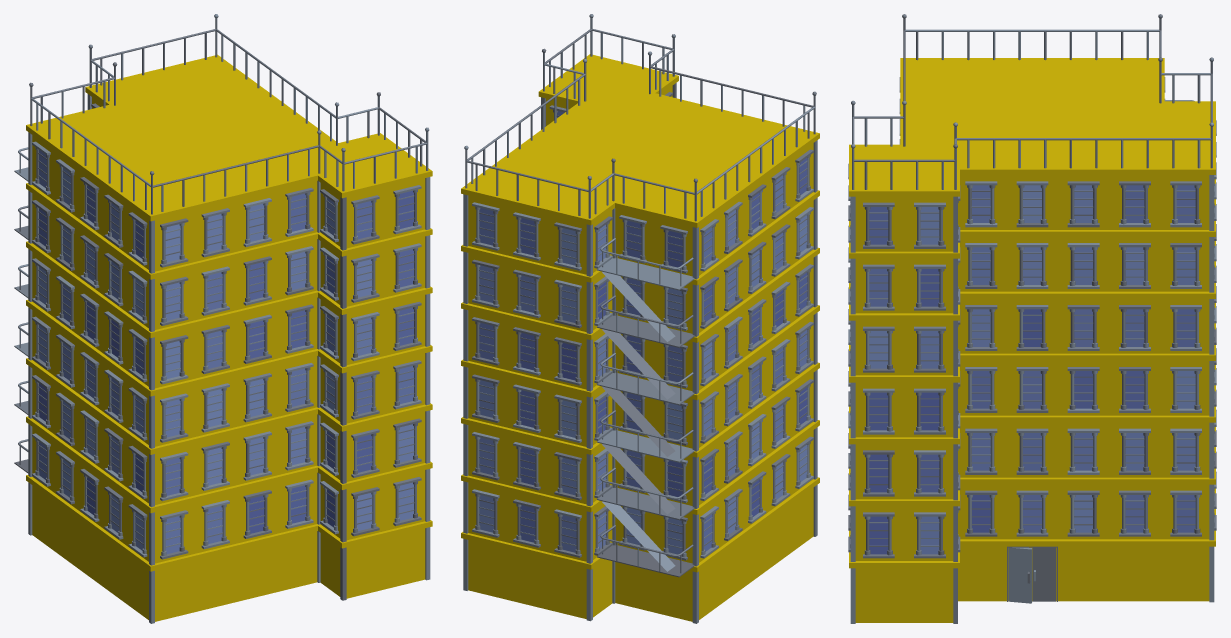
The model's file is Building Procedural.013.fbx.
The picture shows the model from 3 angles, left to right: view 1: azimuth 30°, elevation 25°; view 2: azimuth 150°, elevation 25°; view 3: azimuth 270°, elevation 25°; orthographic projection. The views are drawn at different scales.
Parts seen in each view (by area): view 1: Building Procedural.013; view 2: Building Procedural.013; view 3: Building Procedural.013.
Boxes of the visible parts, x1,y1,x2,y2 form: Building Procedural.013: (14, 14, 432, 623); Building Procedural.013: (461, 14, 819, 623); Building Procedural.013: (848, 14, 1216, 623).
Size of the model in its own units: 1326 by 2210 by 1540.
